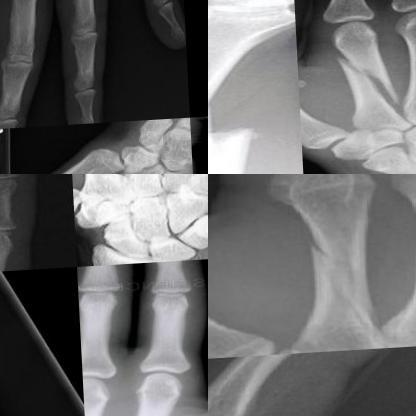fracture: (296, 229, 390, 327), (321, 48, 404, 111), (208, 111, 271, 173)
